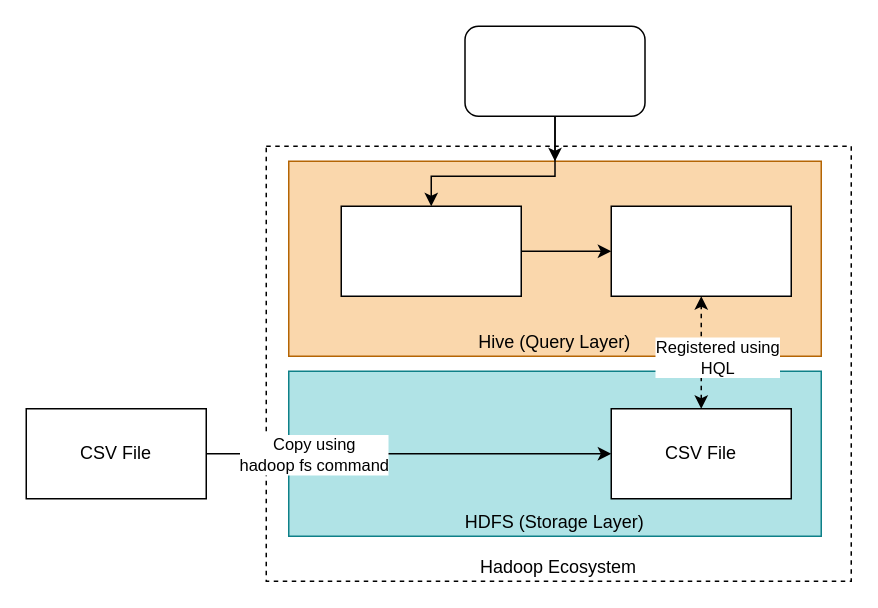
Image size: 878x608. Some labels were removed from this diagram. Here are the shapes that lost their labels. From the top down, the centre of each, then its label:
the point at 554,70: SQL (HQL) Query
the point at 430,250: MapReduce Job
the point at 700,250: External Table
